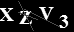3: (58, 14, 69, 28)
V: (38, 6, 55, 21)
X: (1, 6, 15, 22)
Z: (18, 10, 33, 25)
